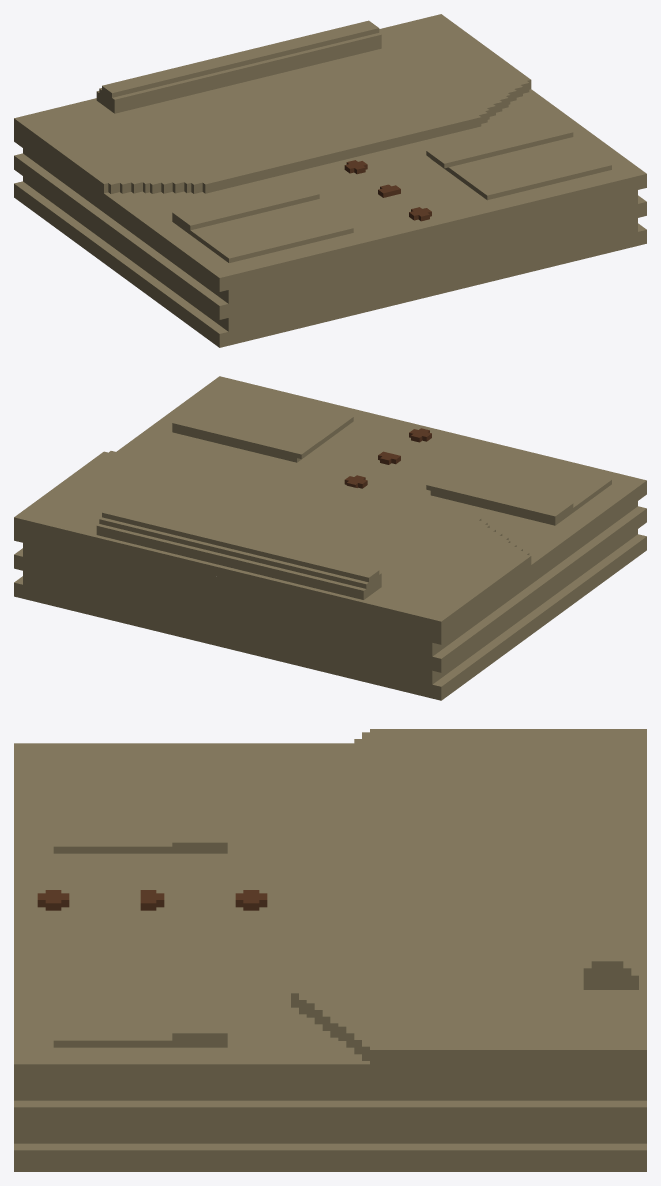
File: duster.glb
3 views of the same model, one above another, from view 1: azimuth 30°, elevation 25°; view 2: azimuth 150°, elevation 25°; view 3: azimuth 270°, elevation 25° (orthographic). The views are drawn at different scales.
Parts seen in each view (by area): view 1: duster:compound; view 2: duster:compound; view 3: duster:compound.
Boxes of the visible parts, left/top/right/bottom form: duster:compound: left=14, top=14, right=646, bottom=347; duster:compound: left=14, top=376, right=646, bottom=700; duster:compound: left=14, top=729, right=646, bottom=1171.
Bounding box in the file's own units: 0.384 × 0.084 × 0.32.
